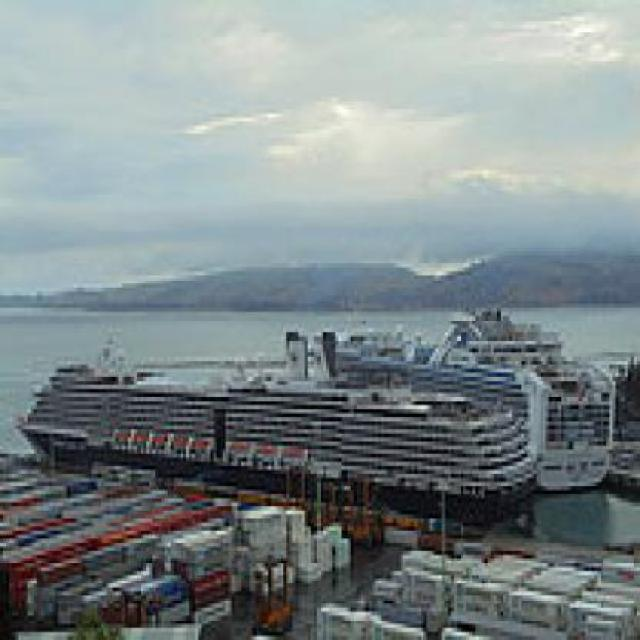cruise: (10, 325, 550, 536)
